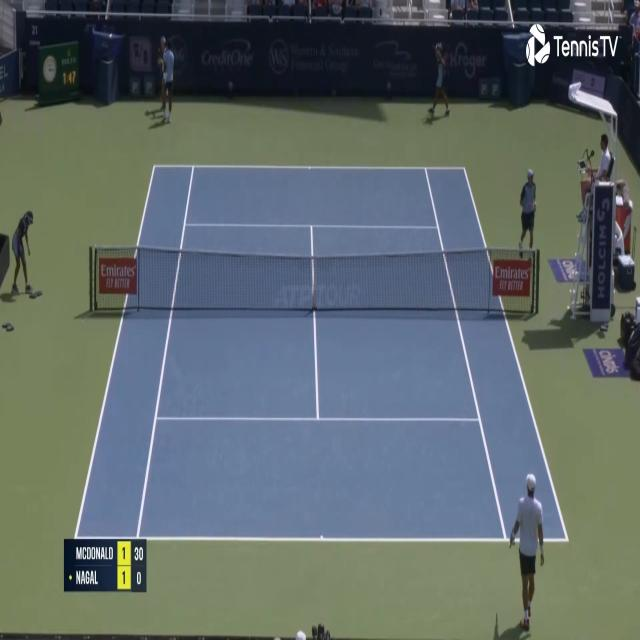tennis-player: (506, 470, 547, 635), (157, 36, 176, 124)
